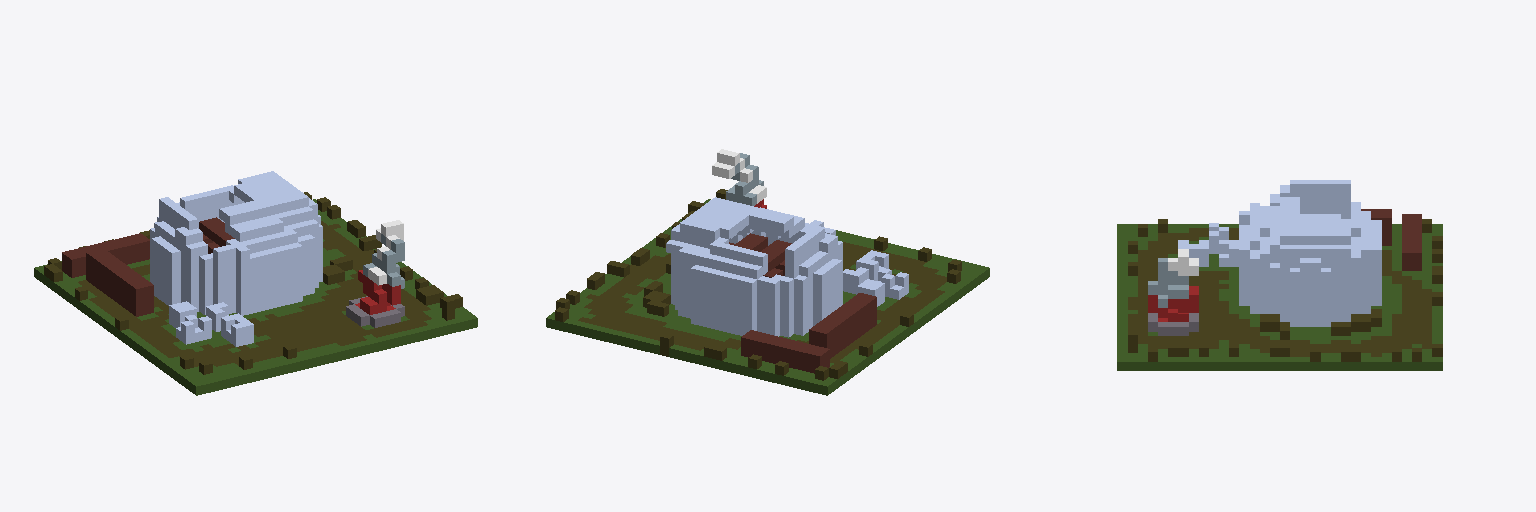
3 renders of one model, left to right at view 1: azimuth 30°, elevation 25°; view 2: azimuth 150°, elevation 25°; view 3: azimuth 270°, elevation 25°, orthographic.
Visible parts, largest first — view 1: object 1; view 2: object 1; view 3: object 1.
Part boxes in pixels (x1,y1,x2,y2): object 1: (34, 171, 477, 395); object 1: (546, 149, 989, 395); object 1: (1117, 180, 1442, 370).
Size of the model in its own units: 3.2 by 1 by 3.2.
1 materials, 1 textured.